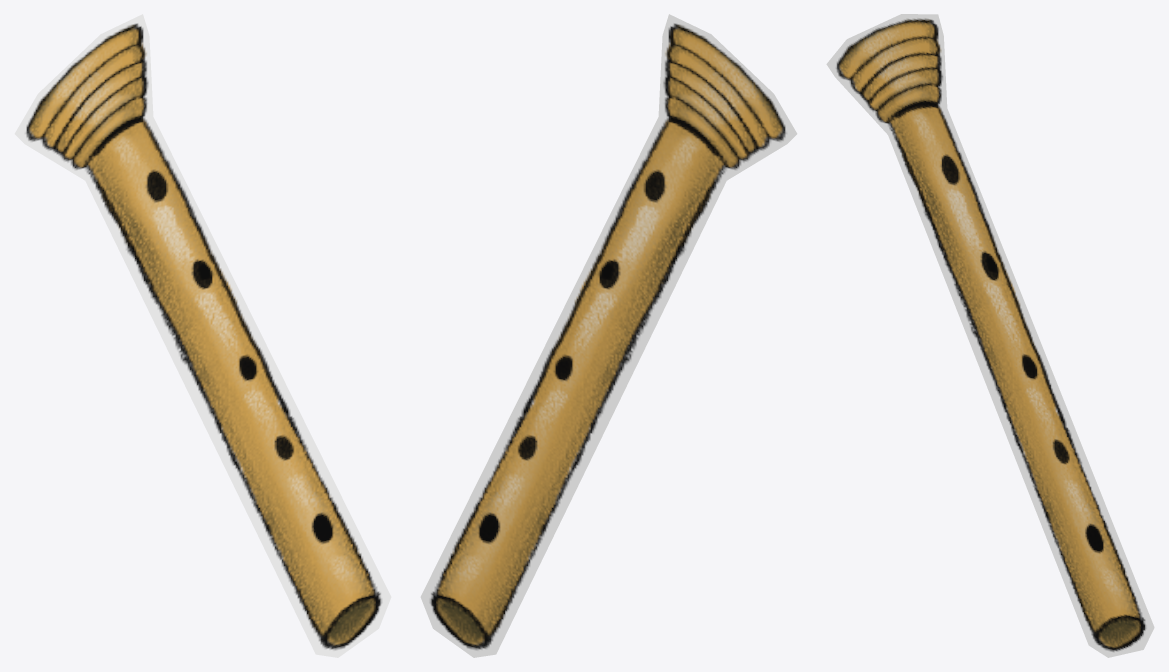
Rendered from pistala_2.glb.
The picture shows the model from 3 angles, left to right: view 1: azimuth 30°, elevation 25°; view 2: azimuth 150°, elevation 25°; view 3: azimuth 330°, elevation 25°; orthographic projection. The views are drawn at different scales.
Parts seen in each view (by area): view 1: Plane.016; view 2: Plane.016; view 3: Plane.016.
Boxes of the visible parts, x1,y1,x2,y2 form: Plane.016: (14, 14, 391, 657); Plane.016: (420, 14, 797, 657); Plane.016: (826, 14, 1154, 657).
Size of the model in its own units: 5.15 by 9.03 by 0.
1 material, 1 textured.
